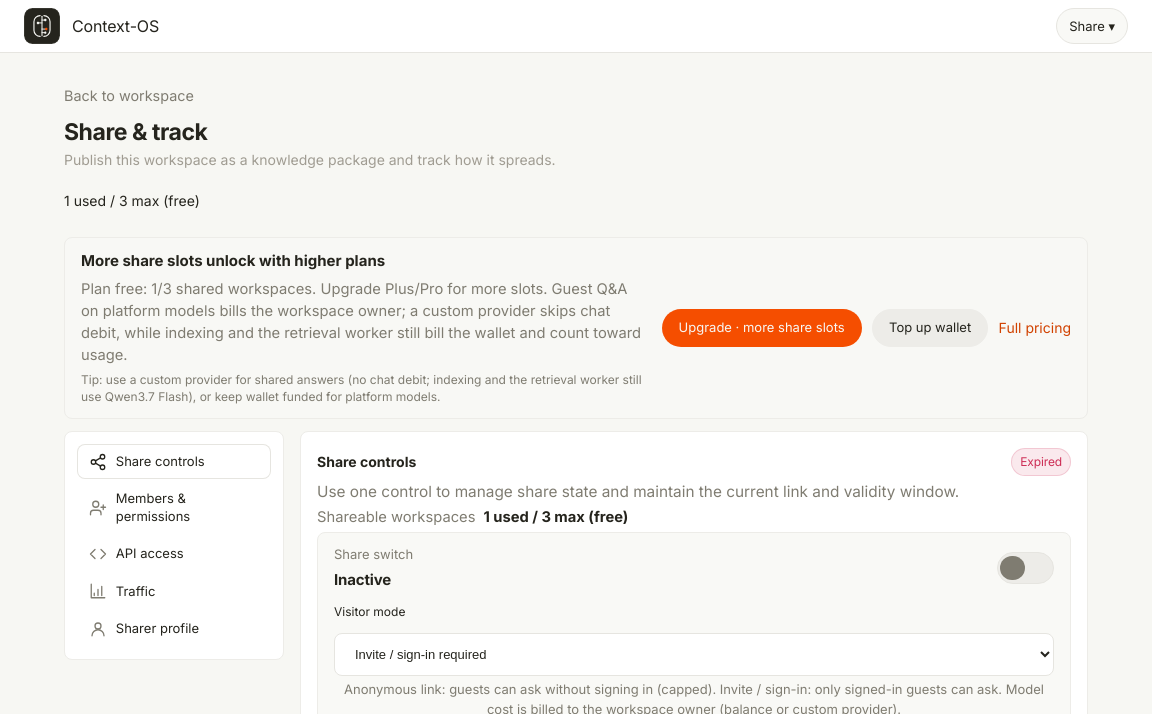
Test: WorkspaceShareCenterSurface › loads share settings, members, and analytics through react-query
The width and height of the screenshot is (1152, 714).
Click the button "Members & permissions". click: (174, 508)
box: [77,481,271,534]
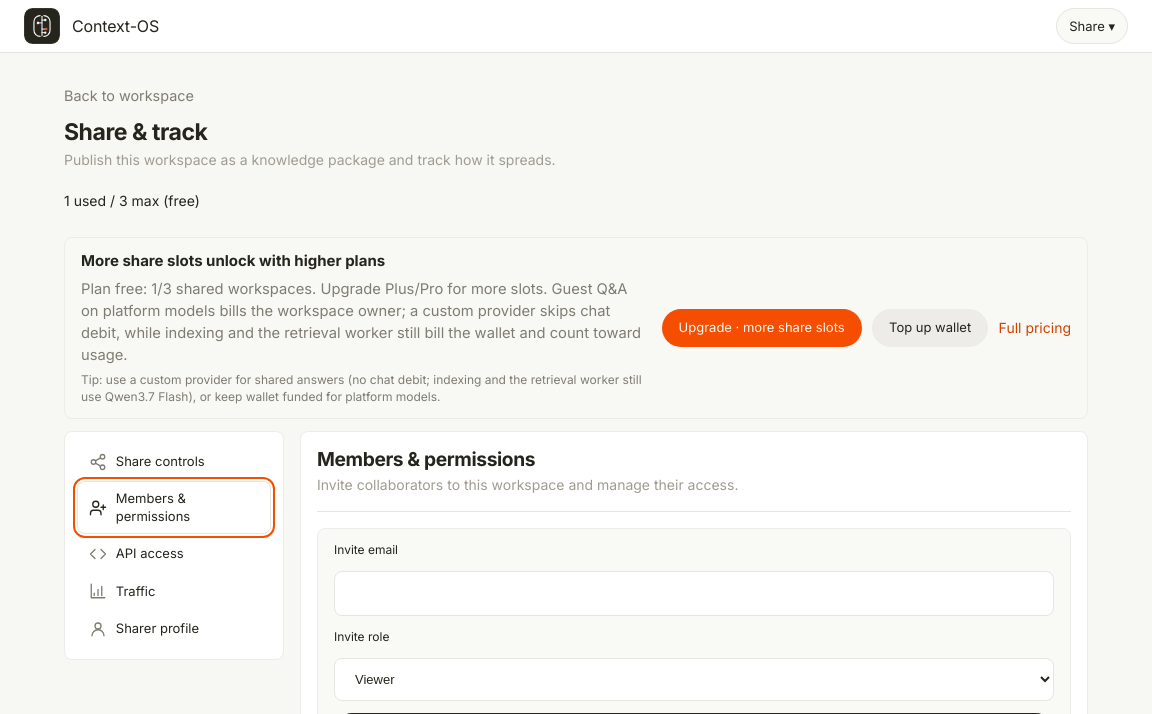
Click the button "Traffic". click: (174, 591)
box: [77,574,271,609]
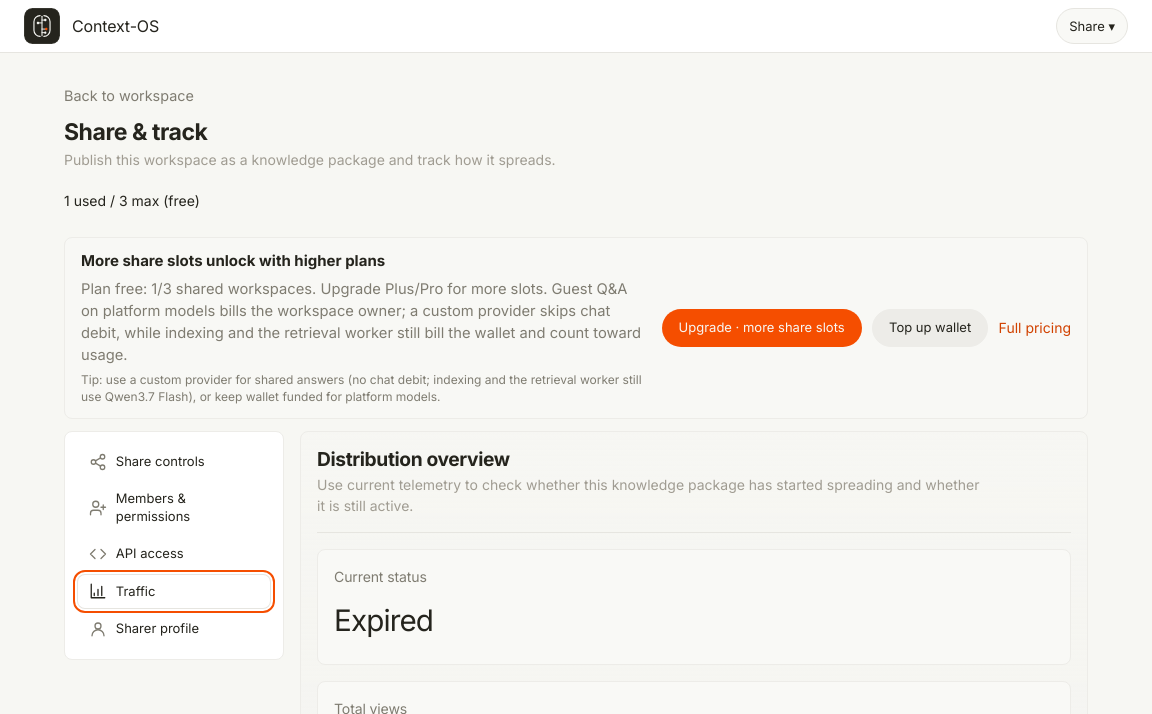
Expected: the heading "Distribution overview" is shown, [317,447,510,471]
